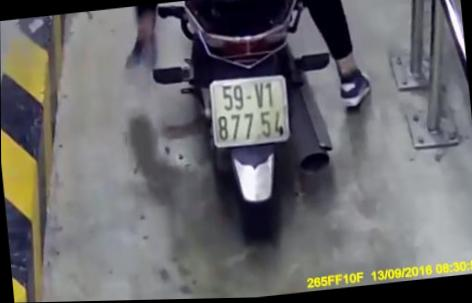LP: (208, 71, 292, 150)
